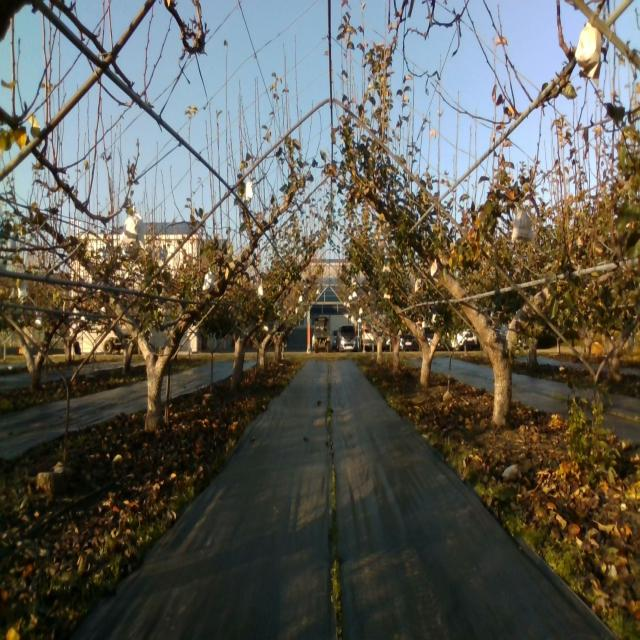pearbags: (573, 19, 603, 87), (120, 205, 145, 252), (511, 206, 533, 243), (202, 266, 215, 291)
